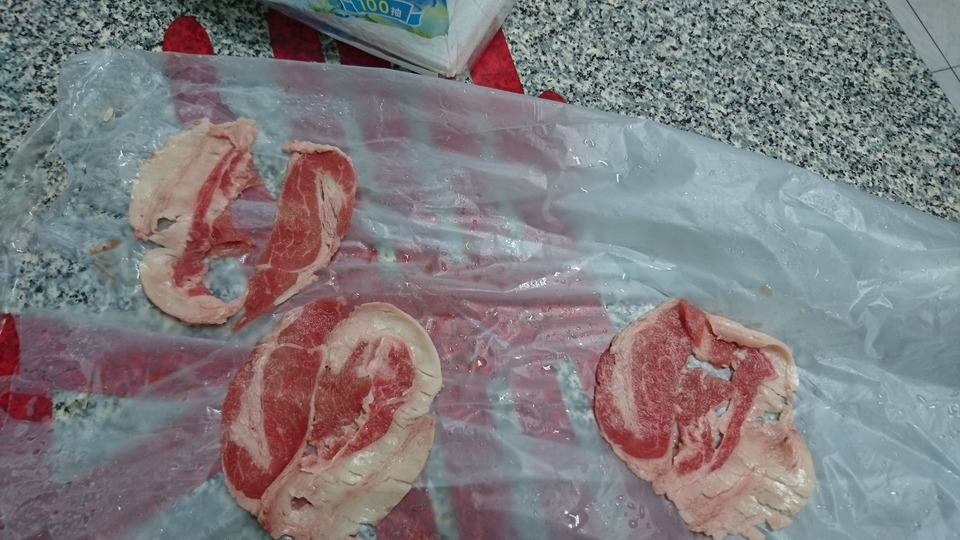restructured meat: (213, 279, 465, 540), (576, 279, 828, 540), (121, 111, 365, 324)
